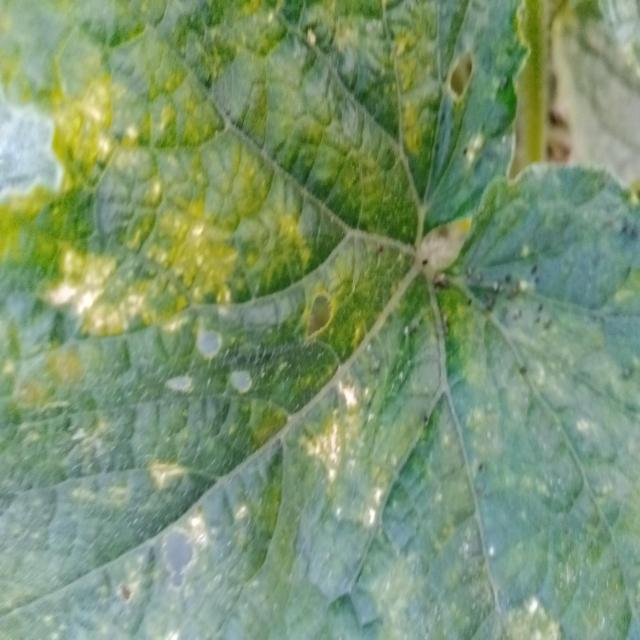cucumber_downy: (10, 2, 640, 640)
